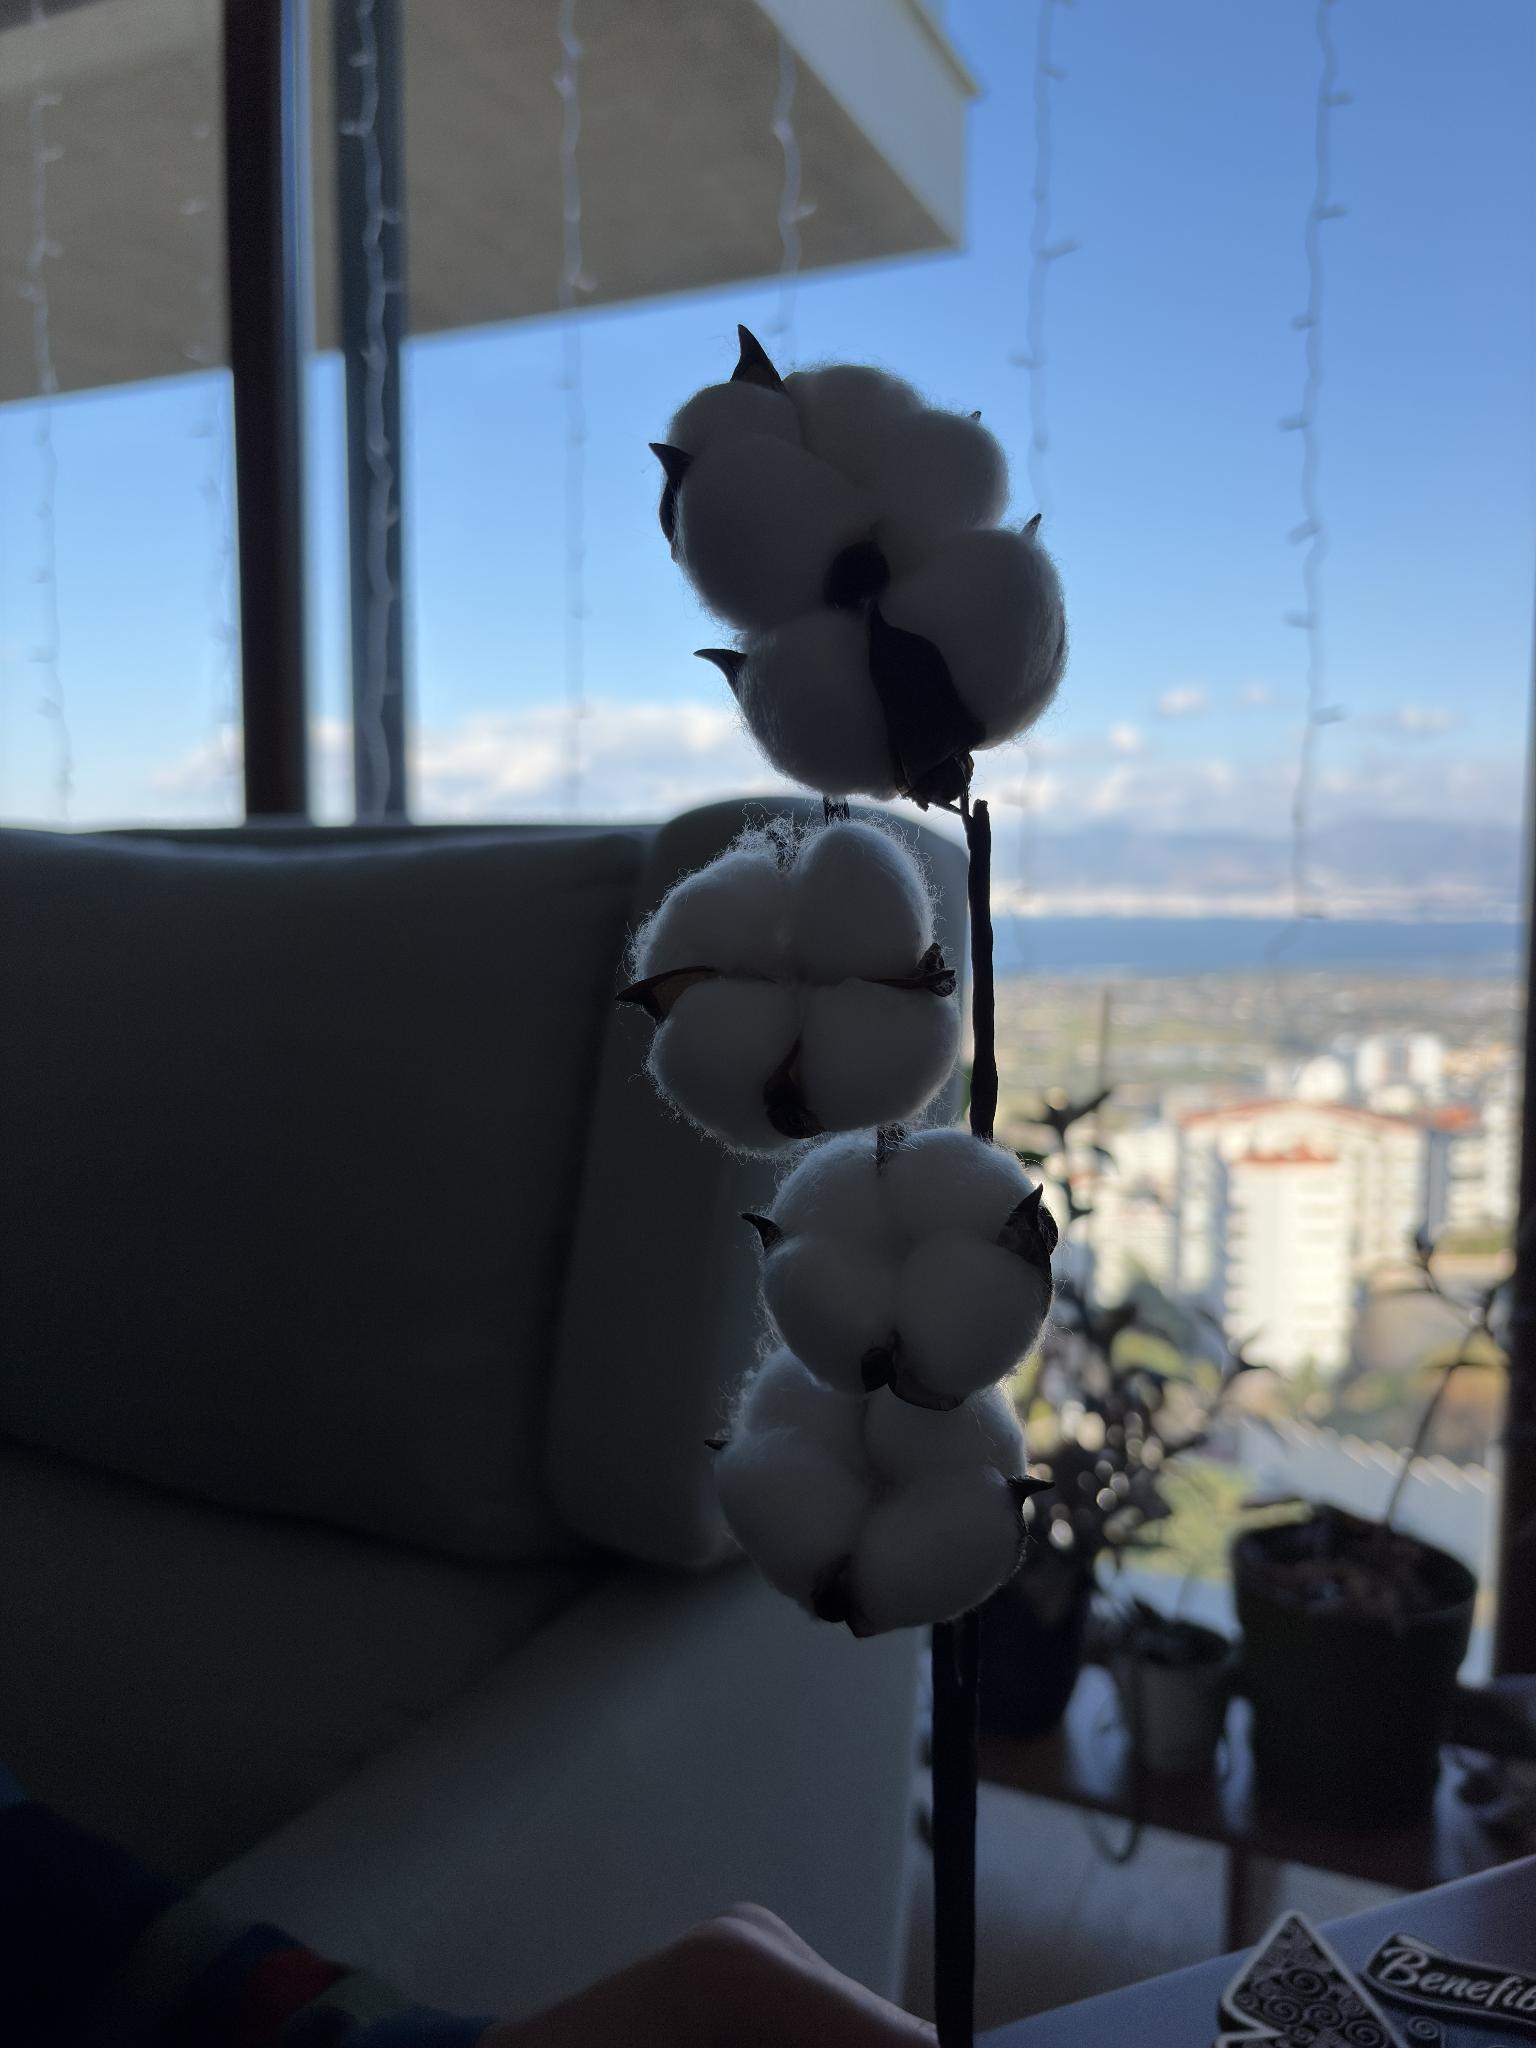cotton_boll: (673, 432, 876, 629), (883, 527, 1065, 743), (731, 608, 897, 798), (850, 1463, 1021, 1629), (716, 1427, 871, 1606), (650, 977, 800, 1153), (897, 1229, 1049, 1397), (799, 979, 960, 1130), (865, 406, 1008, 569), (791, 822, 933, 984), (634, 835, 791, 979), (763, 1232, 897, 1393), (883, 1129, 1033, 1245), (786, 364, 925, 487), (865, 1385, 1025, 1485), (731, 1347, 865, 1464), (770, 1132, 889, 1253), (666, 377, 800, 458)
cotton_boll-cluster: (660, 358, 1075, 805), (621, 818, 968, 1158), (720, 1337, 1039, 1646), (753, 1130, 1063, 1416)
